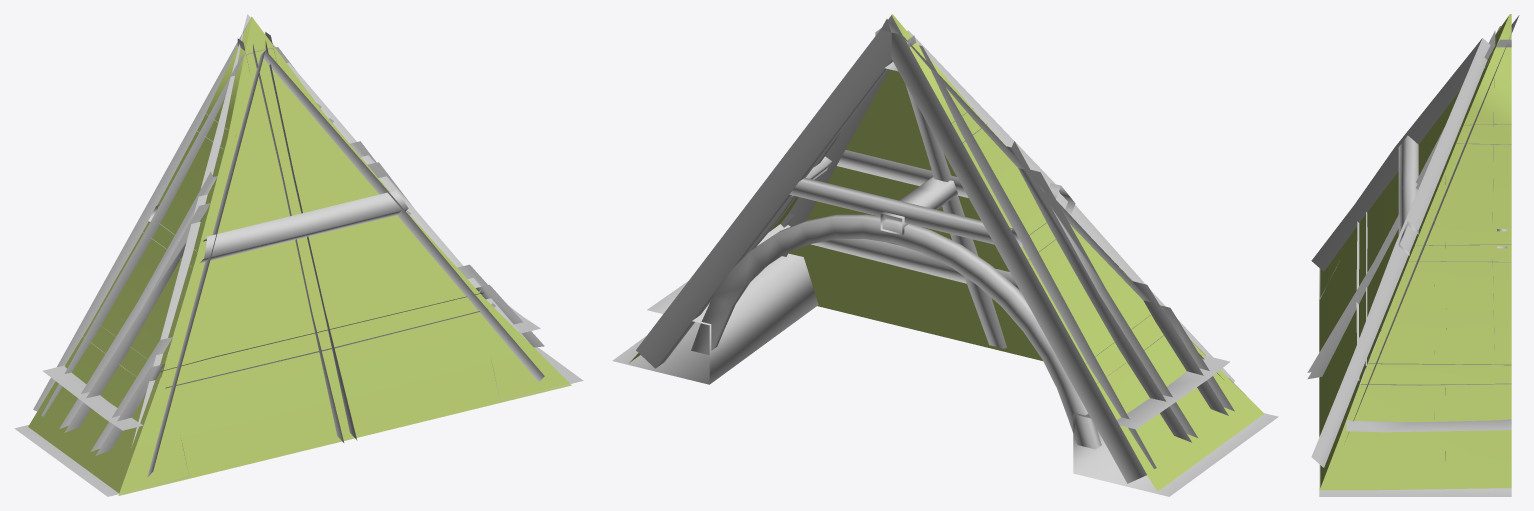
File: roof_inside_medium_end.fbx
The picture shows the model from 3 angles, left to right: view 1: azimuth 30°, elevation 25°; view 2: azimuth 150°, elevation 25°; view 3: azimuth 270°, elevation 25°; orthographic projection. The views are drawn at different scales.
Parts seen in each view (by area): view 1: Cube.040; view 2: Cube.040; view 3: Cube.040.
Boxes of the visible parts, left/top/right/bottom form: Cube.040: left=14, top=14, right=583, bottom=496; Cube.040: left=612, top=14, right=1278, bottom=496; Cube.040: left=1307, top=14, right=1519, bottom=496.
Size of the model in its own units: 14.68 by 10.48 by 5.52.
